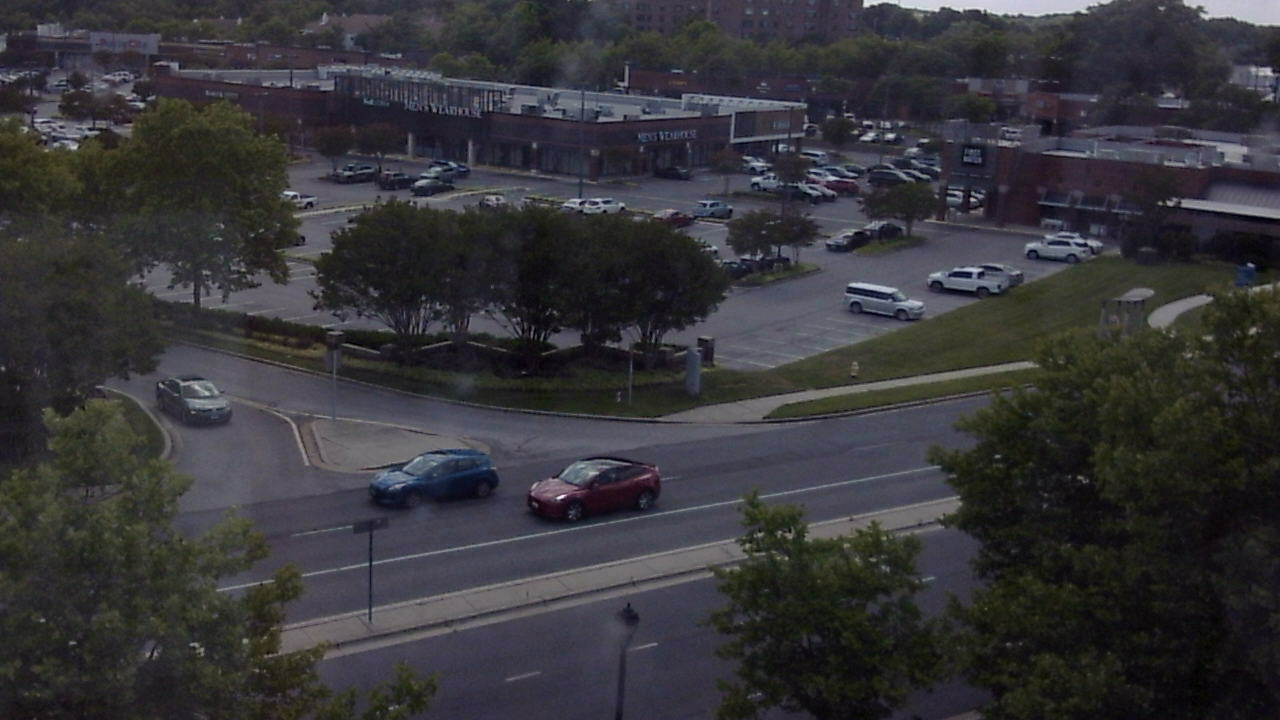Car: (523, 454, 673, 527), (364, 450, 511, 515), (148, 372, 245, 444)
